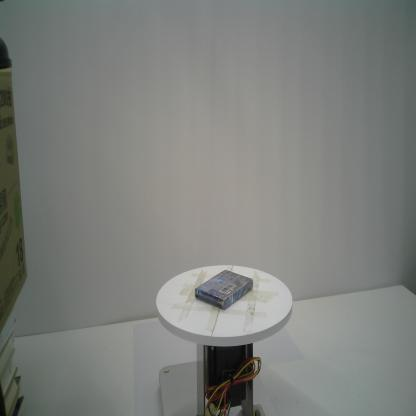Gum: (194, 268, 254, 312)
